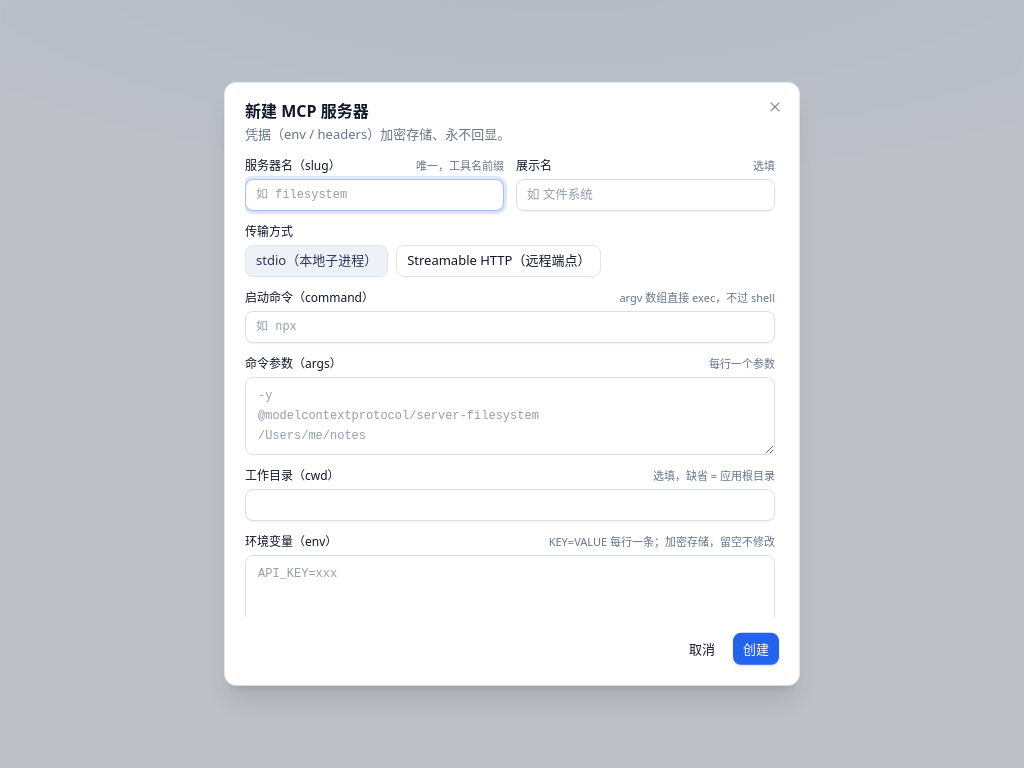
M27：McpServerEditor › 非法 slug 内联报错，不发创建请求
Type "Bad Name" into the field named "服务器名" at (374, 194), box [245,178,504,210]
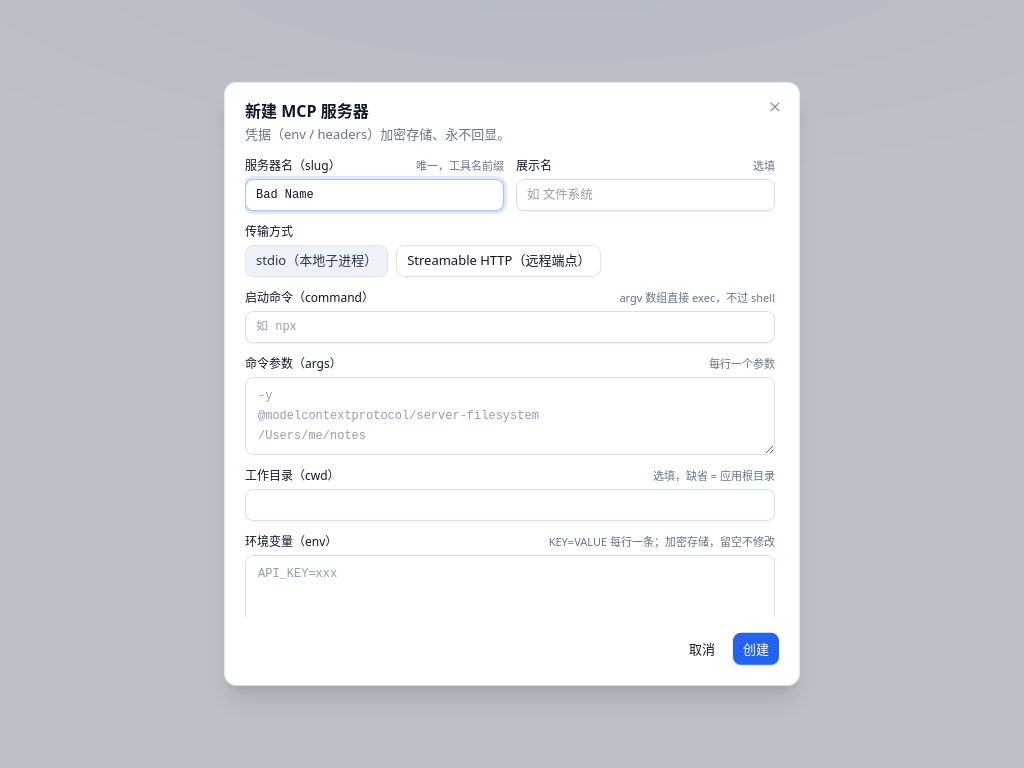
Click the button "创建" at (756, 649), box [733,633,779,665]
(page scrolled)
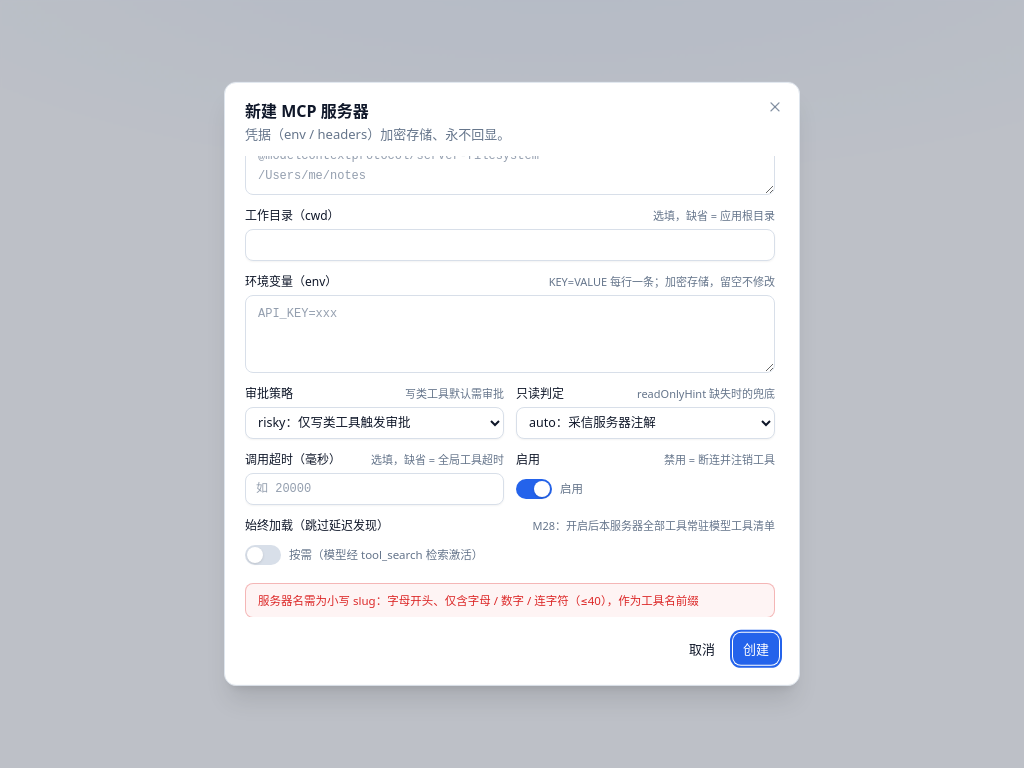
Now the text "服务器名需为小写 slug：字母开头、仅含字母 / 数字 / 连字符（≤40），作为工具名前缀" is shown, box [245,582,775,617]
